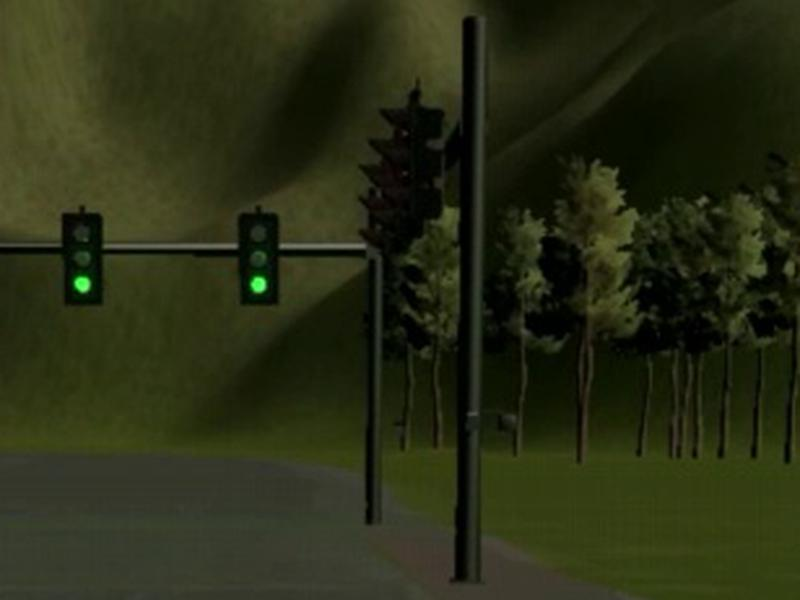Green: (61, 213, 103, 304), (239, 213, 280, 304)
